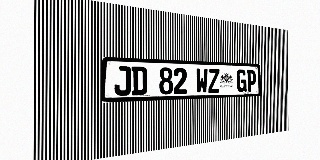2: (174, 67, 187, 94)
8: (159, 67, 173, 94)
D: (131, 66, 147, 95)
G: (237, 69, 246, 92)
J: (114, 66, 131, 96)
P: (247, 70, 256, 92)
W: (196, 68, 208, 93)
Z: (208, 68, 219, 93)
